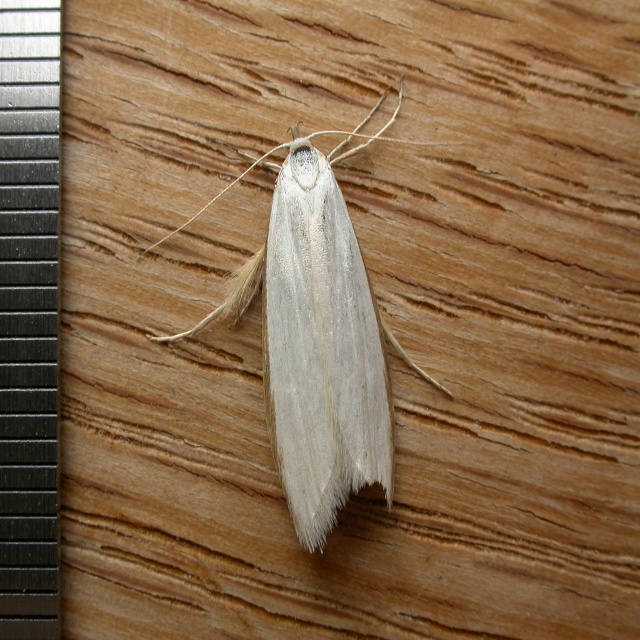Moths and butterflies: (136, 70, 459, 561)
